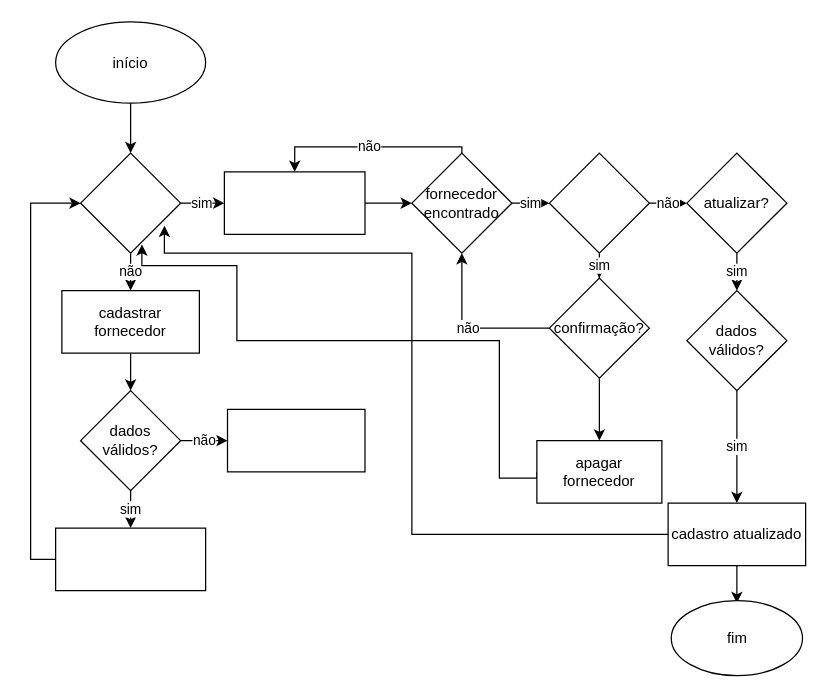
The diagram is 828 pixels wide and 698 high, and some of its shapes have lost their labels. The centre of each missing label's shape, as x and y in pixels:
apagar?: (x=598, y=202)
buscar fornecedor: (x=294, y=202)
cadastro realizado: (x=130, y=559)
fornecedor cadastrado: (x=130, y=202)
mostrar erro: (x=295, y=440)
